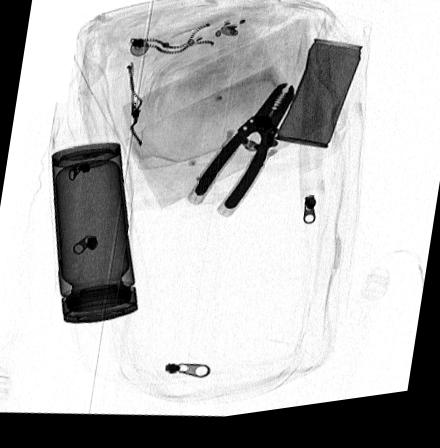Pliers: (193, 89, 295, 217)
